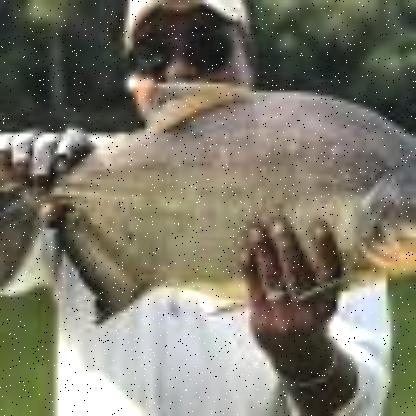ikan-pacu: (0, 91, 412, 309)
